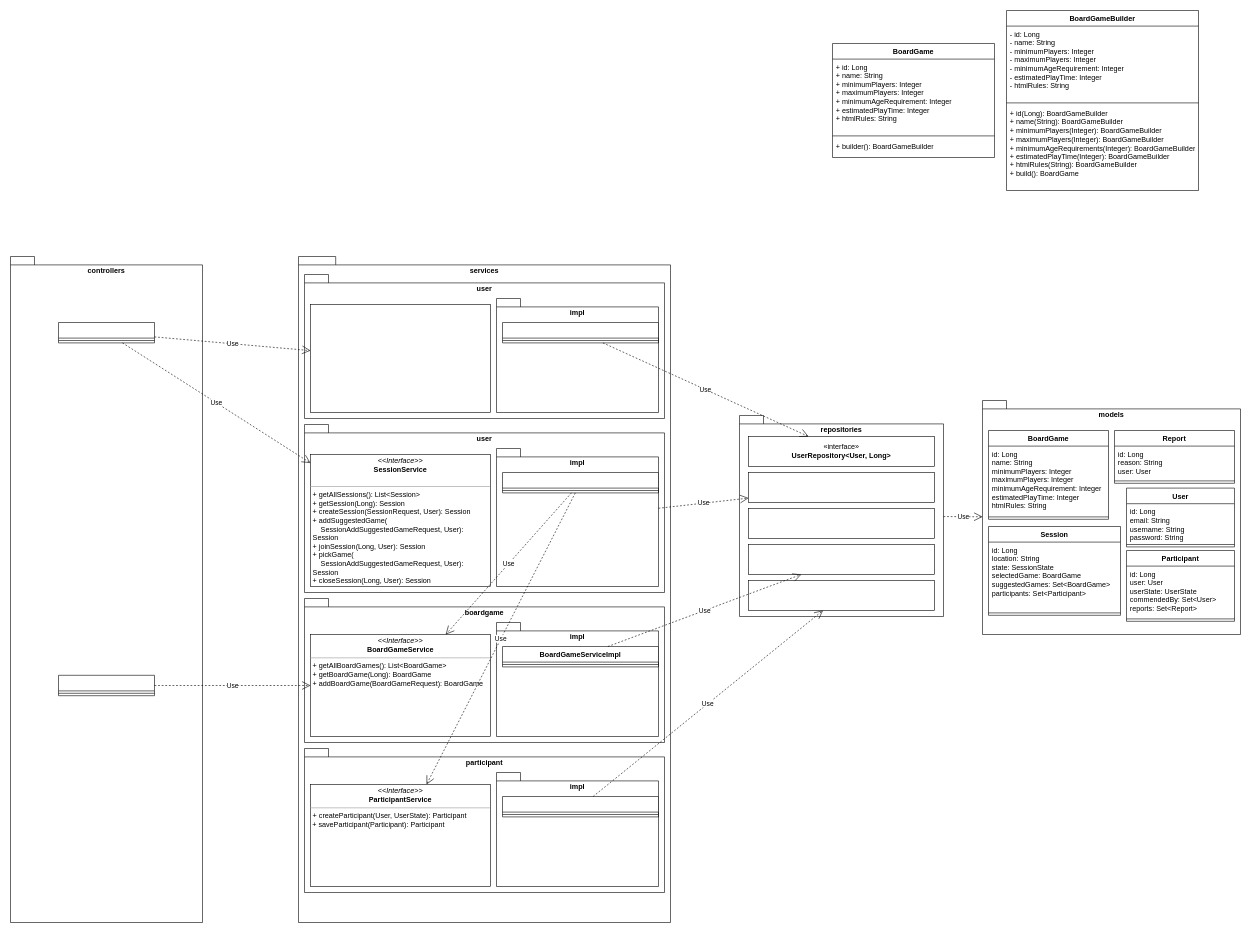
Some shapes in this 1251 by 938 pixel diagram are drawn without their labels. The centre of each missing label's shape, as x and y in pixels:
"<<Interface>> UserService + getByUsername(String): User + saveUser(User): User" goes at point (400, 358).
"BoardGameController" goes at point (106, 685).
"ParticipantServiceImpl" goes at point (580, 806).
"SessionController" goes at point (106, 332).
"SessionServiceImpl" goes at point (580, 482).
"UserServiceImpl" goes at point (580, 332).
"«interface» BoardGameRepository<BoardGame, Long>" goes at point (841, 559).
"«interface» ParticipantRepository<Participant, Long>" goes at point (841, 595).
"«interface» ReportRepository<Report, Long>" goes at point (841, 523).
"«interface» SessionRepository<Session, Long>" goes at point (841, 487).
